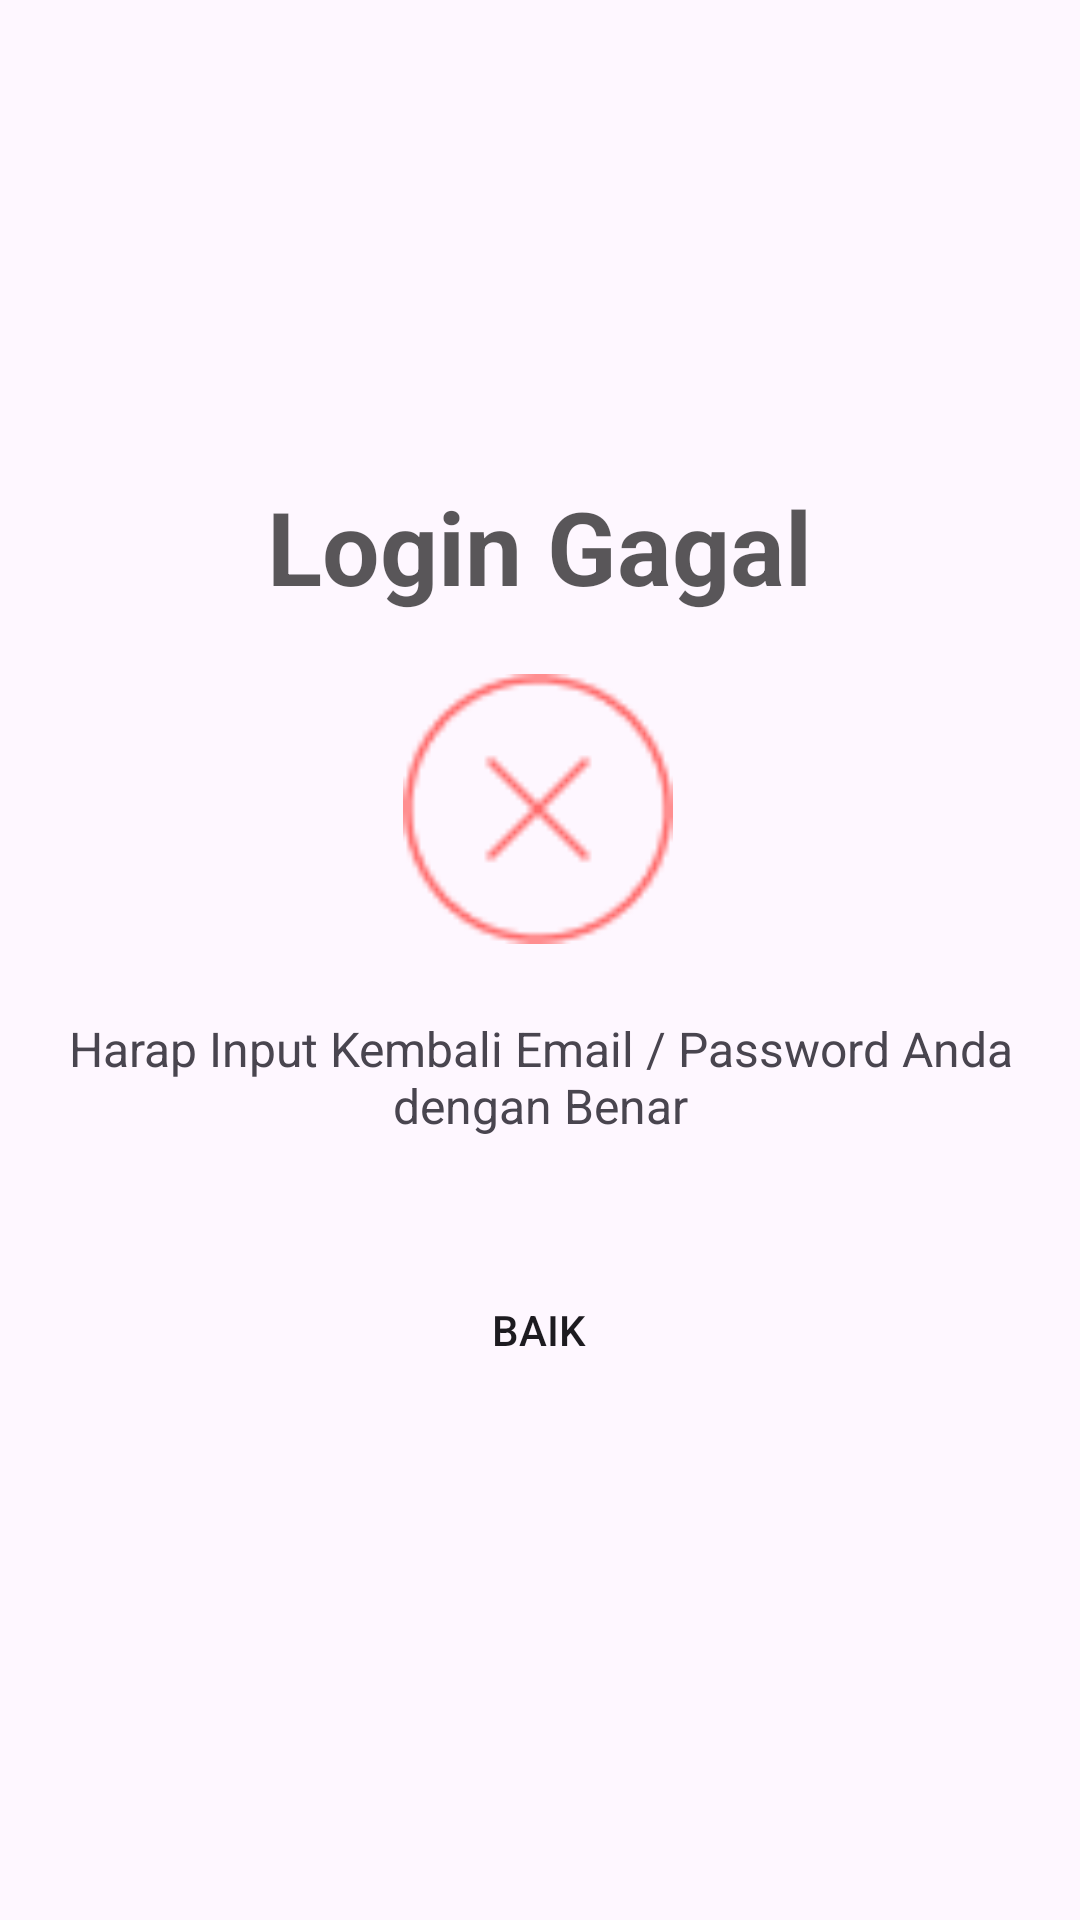

Named icons in this screenshot (1080 × 1920) and their centers, (x=x, y=y):
error: (x=538, y=809)
